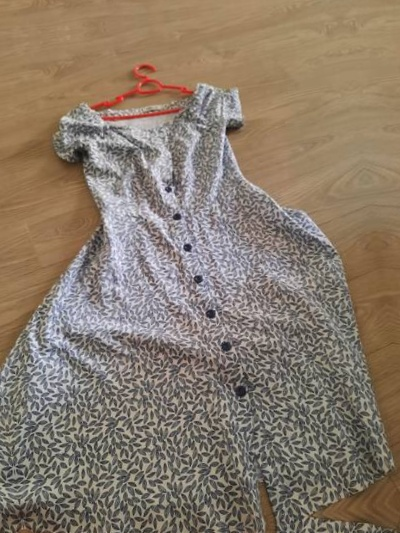Dress: (0, 36, 400, 533), (350, 0, 400, 486), (0, 99, 23, 533), (34, 512, 400, 533), (0, 0, 321, 6)
